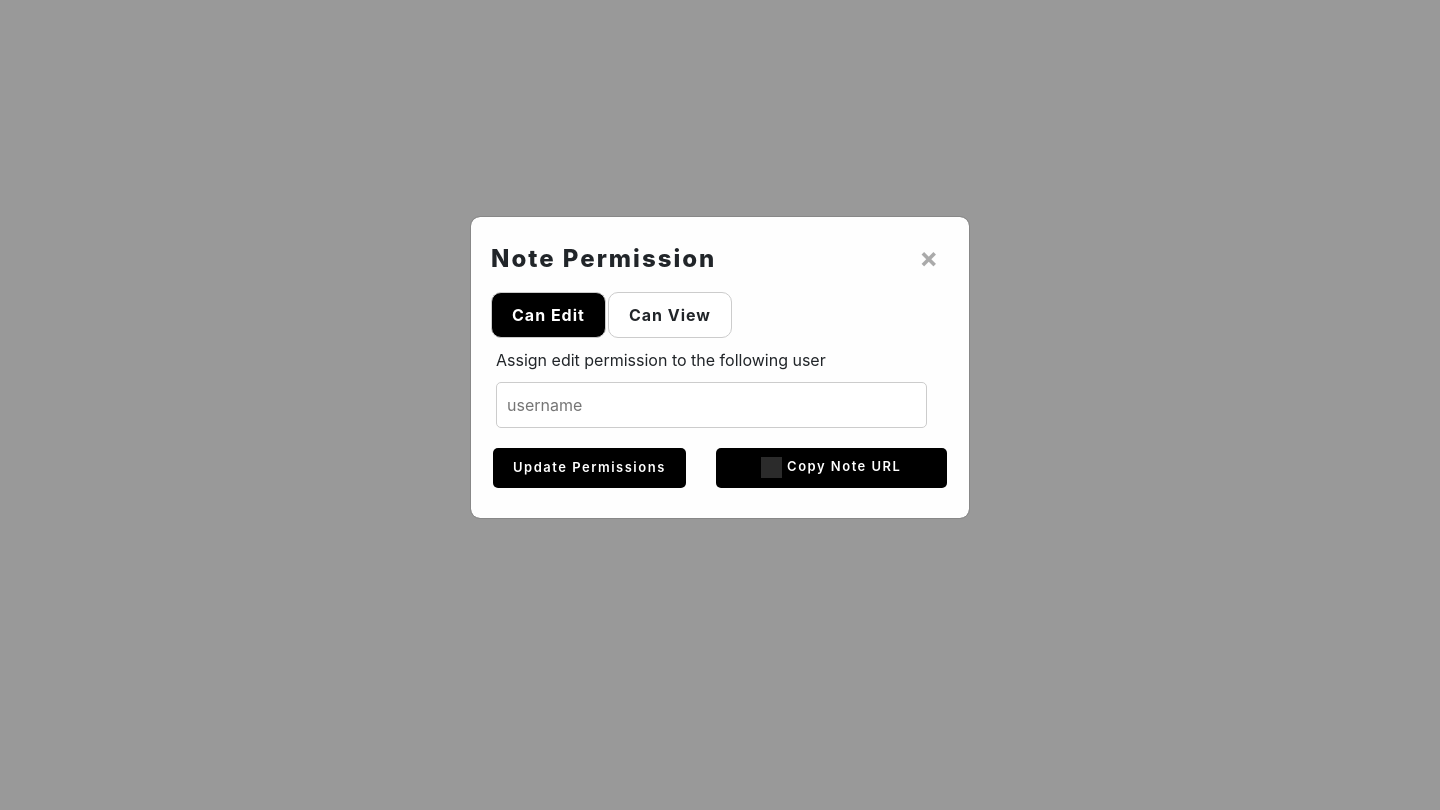
it: PermissionTab Component › handles form submission correctly for view permission
The width and height of the screenshot is (1440, 810).
Click the text "Can View" at x=670, y=315, box [608,292,732,338]
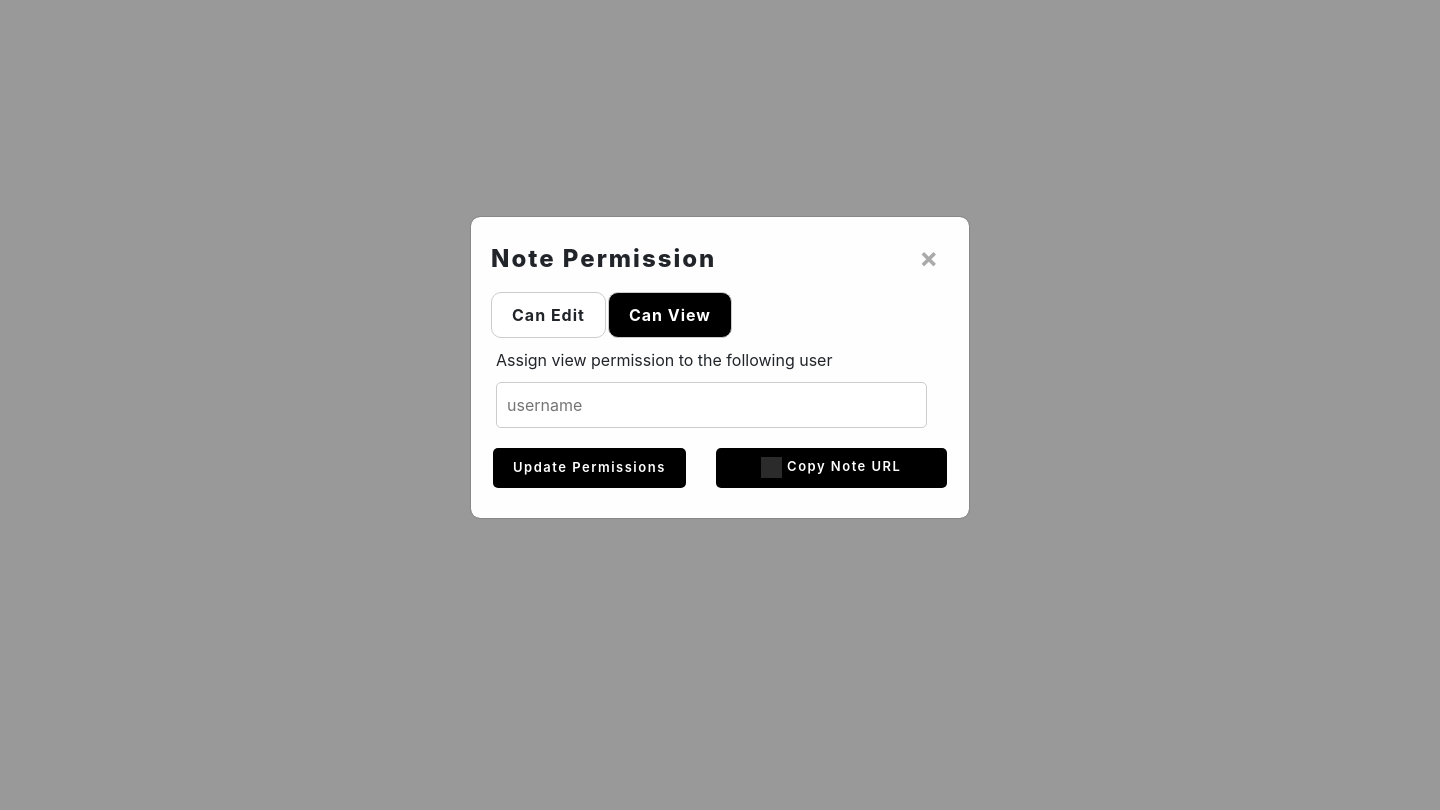
Type "testuser" into the field with placeholder "username" at x=712, y=405, box [496,382,927,428]
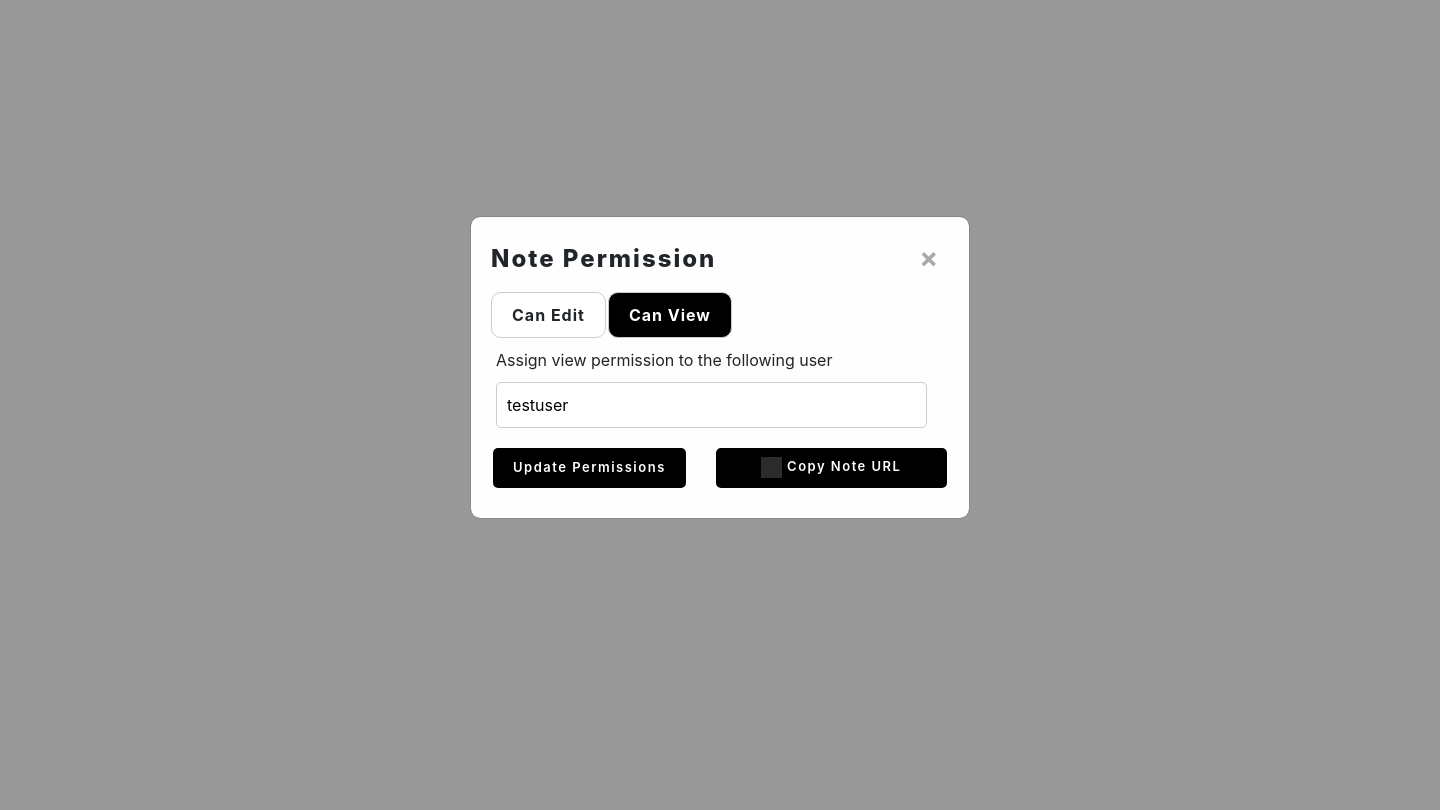
Click the button "Update Permissions" at x=589, y=468, box [493,448,686,488]
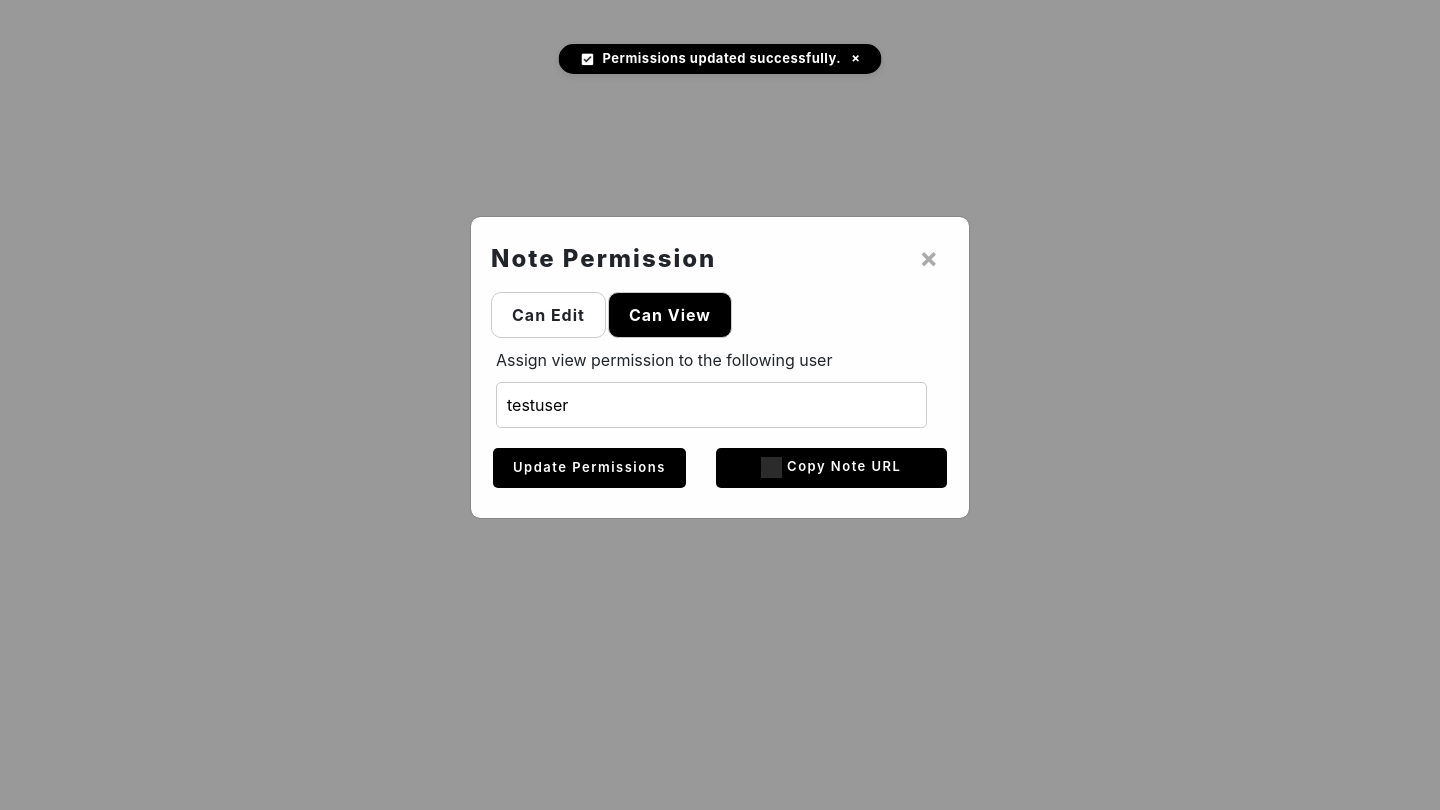
Check: the text "Permissions updated successfully." is shown, box [602,50,841,66]
